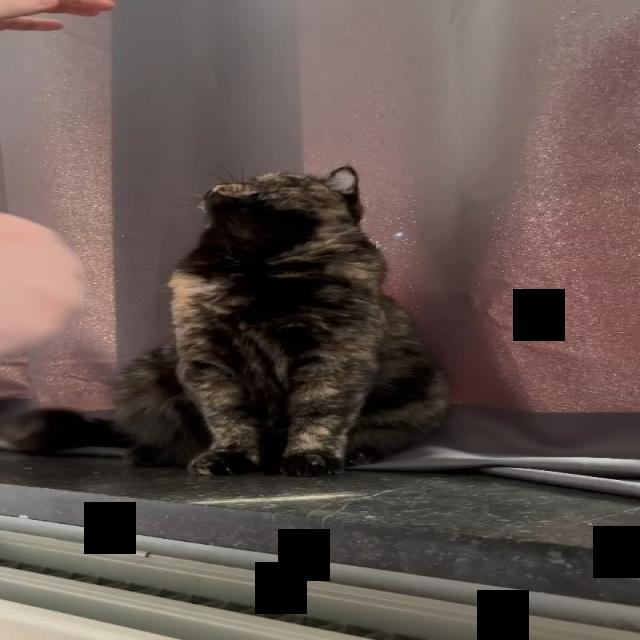authorized: (109, 165, 452, 477)
